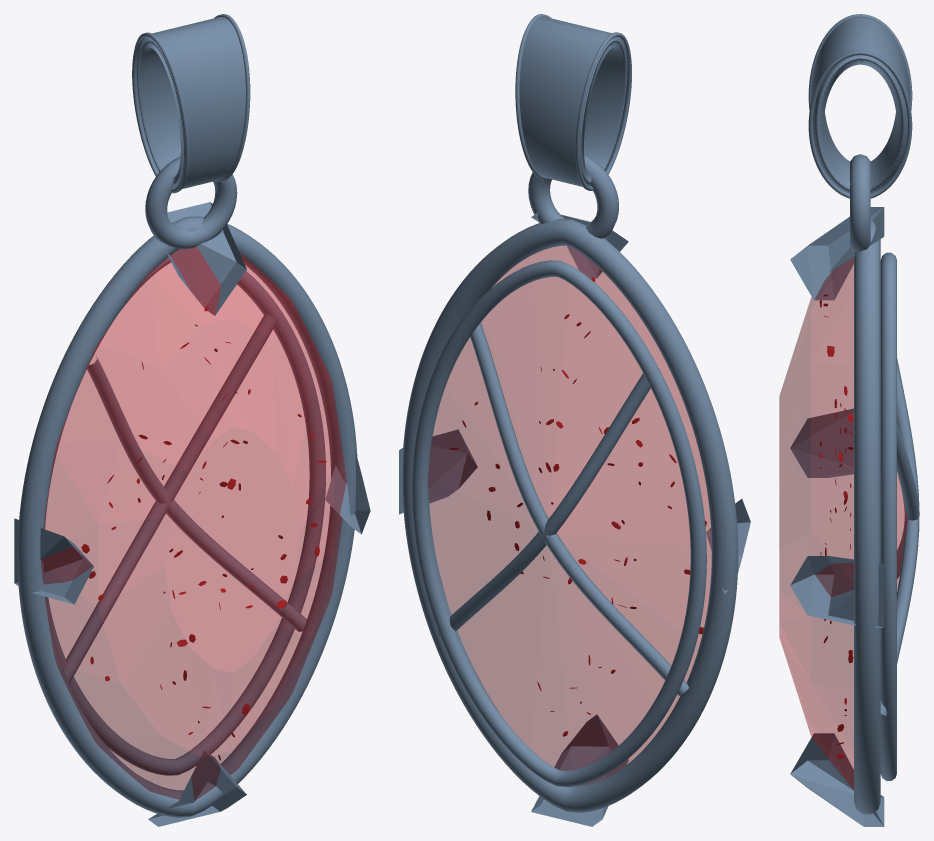
The model's file is kaldite_pendant.glb.
The picture shows the model from 3 angles, left to right: view 1: azimuth 30°, elevation 25°; view 2: azimuth 150°, elevation 25°; view 3: azimuth 270°, elevation 25°; orthographic projection.
Parts seen in each view (by area): view 1: Deep red transparent garnet, Polished cool blue cobalt, Scarlet garnet fracture flakes; view 2: Deep red transparent garnet, Polished cool blue cobalt, Scarlet garnet fracture flakes; view 3: Polished cool blue cobalt, Deep red transparent garnet, Scarlet garnet fracture flakes.
Boxes of the visible parts, bbox=[...] form: Deep red transparent garnet: bbox=[41, 247, 346, 800]; Polished cool blue cobalt: bbox=[14, 14, 370, 826]; Scarlet garnet fracture flakes: bbox=[81, 306, 326, 760]; Deep red transparent garnet: bbox=[428, 246, 711, 785]; Polished cool blue cobalt: bbox=[399, 14, 750, 826]; Scarlet garnet fracture flakes: bbox=[450, 277, 706, 736]; Polished cool blue cobalt: bbox=[790, 14, 919, 826]; Deep red transparent garnet: bbox=[779, 257, 907, 789]; Scarlet garnet fracture flakes: bbox=[819, 294, 853, 758].
Bounding box in the file's own units: 0.0221 × 0.0499 × 0.00813.
